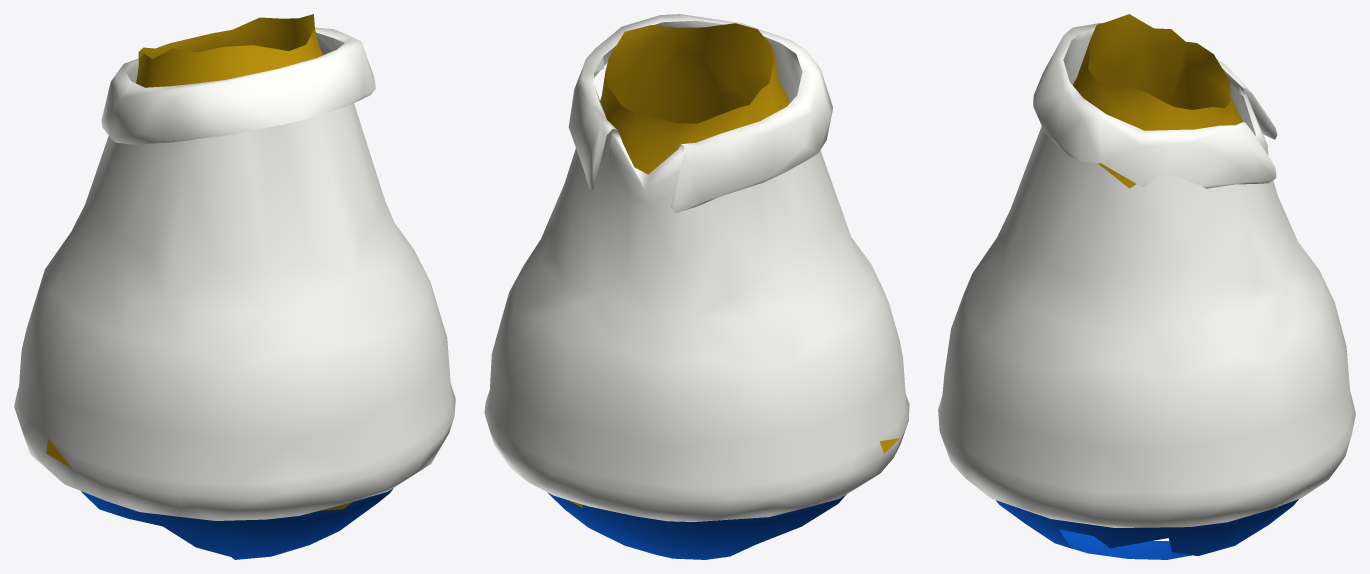
The model's file is torso.obj.
3 renders of one model, left to right at view 1: azimuth 30°, elevation 25°; view 2: azimuth 150°, elevation 25°; view 3: azimuth 270°, elevation 25°, orthographic. The views are drawn at different scales.
Visible parts, largest first — view 1: torso_Homer_Sphere.003; view 2: torso_Homer_Sphere.003; view 3: torso_Homer_Sphere.003.
Part boxes in pixels (box(x1,y1,x2,y2)): torso_Homer_Sphere.003: box(14, 14, 455, 559); torso_Homer_Sphere.003: box(484, 14, 909, 559); torso_Homer_Sphere.003: box(938, 14, 1355, 559).
Bounding box in the file's own units: 1.39 × 1.81 × 1.35.
